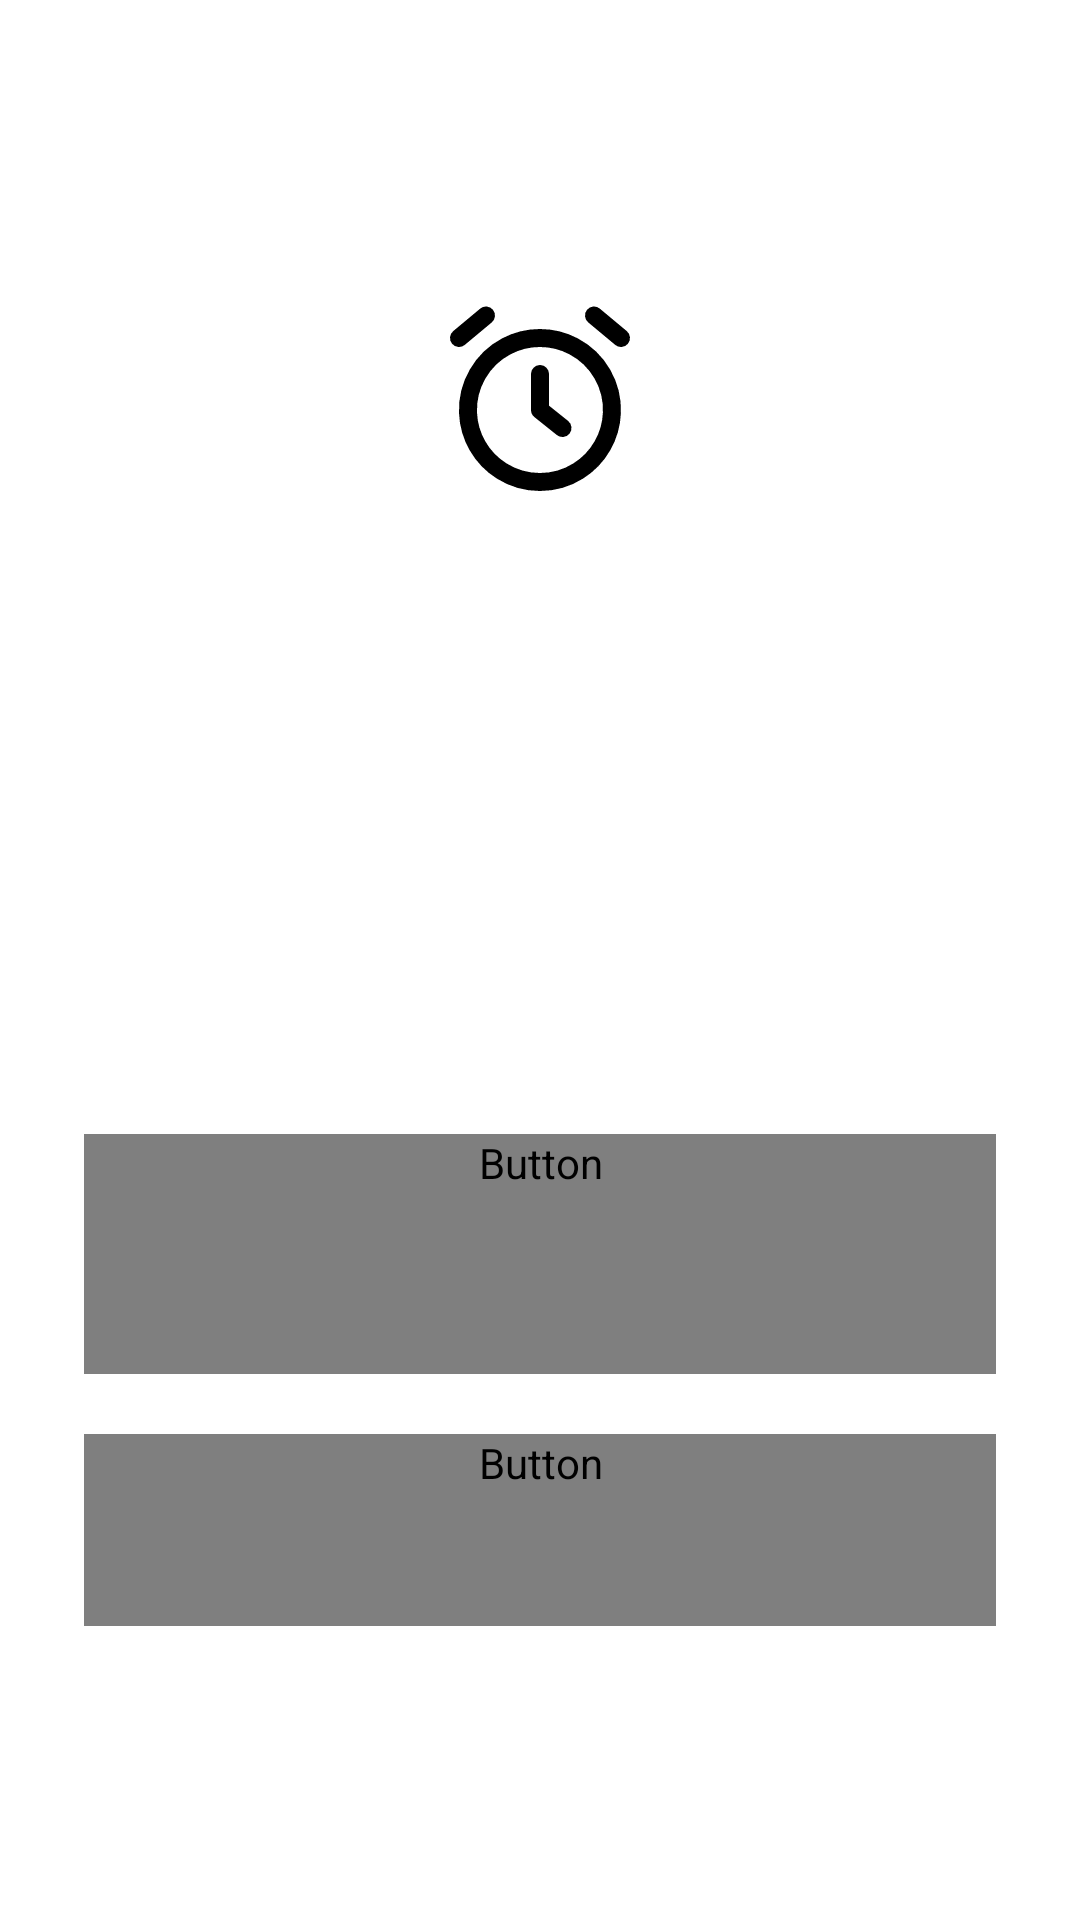

Named icons in this screenshot (1080*1920) and their bounding boxes, (x1,y1,x2,y2):
alarm: (450,306,630,491)
